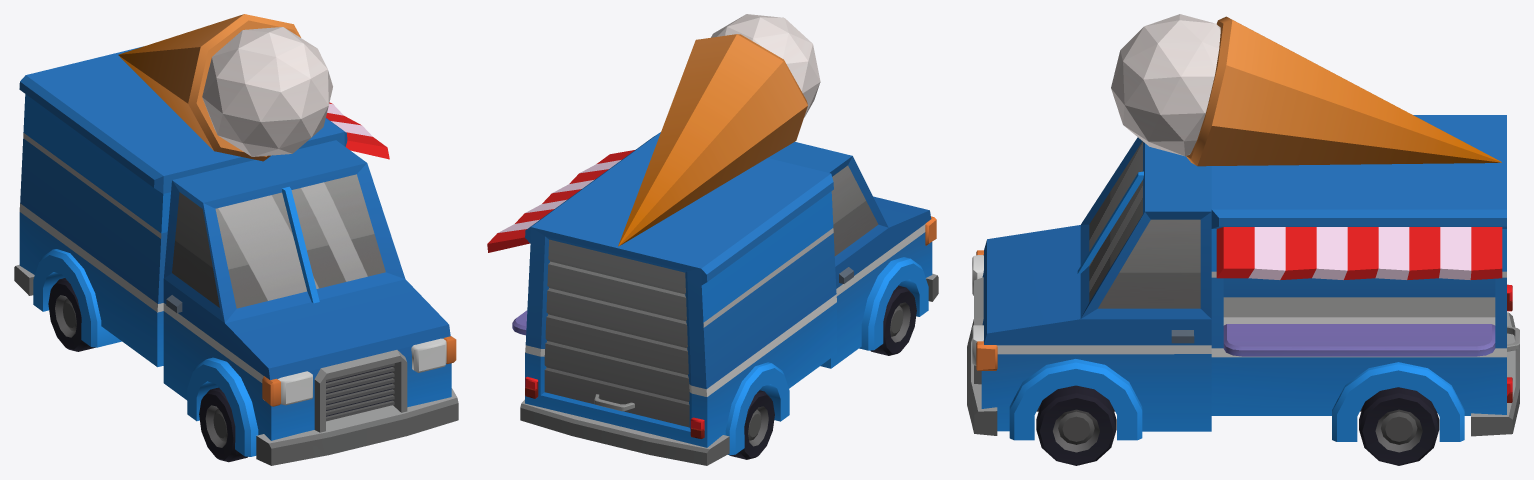
File: IceCreamTruck_2.glb
3 renders of one model, left to right at view 1: azimuth 30°, elevation 25°; view 2: azimuth 150°, elevation 25°; view 3: azimuth 270°, elevation 25°, orthographic. The views are drawn at different scales.
Parts seen in each view (by area): view 1: IceCreamTruck_2, W_FR.021, W_BR.022; view 2: IceCreamTruck_2, W_FR.021, W_BR.022; view 3: IceCreamTruck_2, W_FL.022, W_BL.022.
Boxes of the visible parts, bbox=[...] form: IceCreamTruck_2: bbox=[14, 14, 458, 465]; W_FR.021: bbox=[199, 387, 247, 462]; W_BR.022: bbox=[48, 278, 95, 351]; IceCreamTruck_2: bbox=[487, 14, 938, 465]; W_FR.021: bbox=[870, 285, 916, 355]; W_BR.022: bbox=[729, 390, 774, 459]; IceCreamTruck_2: bbox=[967, 14, 1519, 441]; W_FL.022: bbox=[1036, 385, 1116, 465]; W_BL.022: bbox=[1359, 387, 1439, 465].
Bounding box in the file's own units: 1.34 × 1.9 × 2.41.
Materials: 4 (4 with a texture image).
